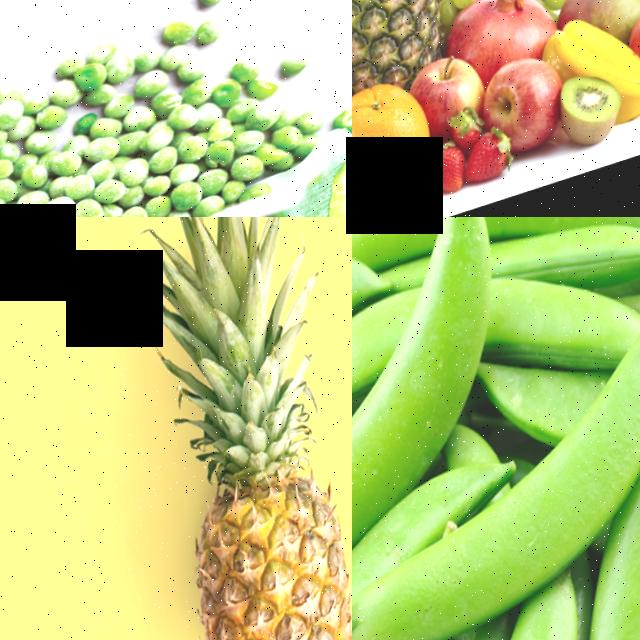apple: (497, 54, 585, 160), (422, 51, 497, 125)
orange: (352, 73, 458, 215)
peas: (0, 61, 312, 217), (0, 2, 253, 156)
pineapple: (132, 346, 352, 640), (352, 0, 473, 115)
